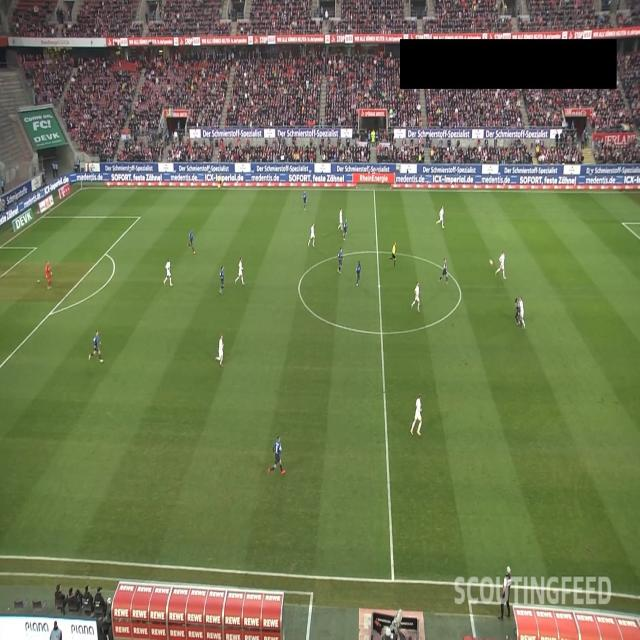ball: (489, 258, 494, 266)
